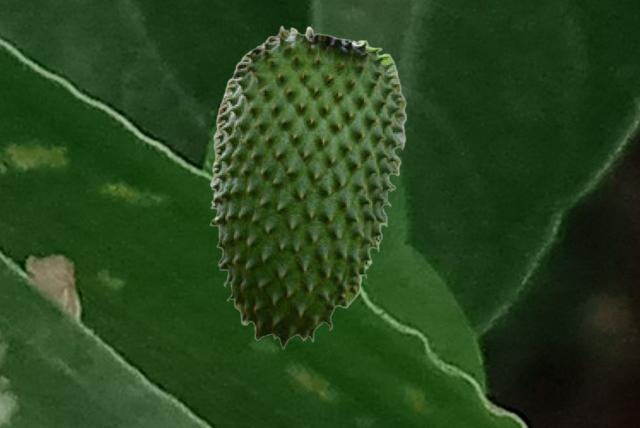guyabano: (209, 25, 406, 348)
